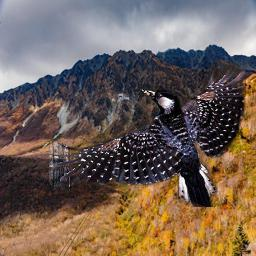Woodpecker: (49, 62, 246, 207)
